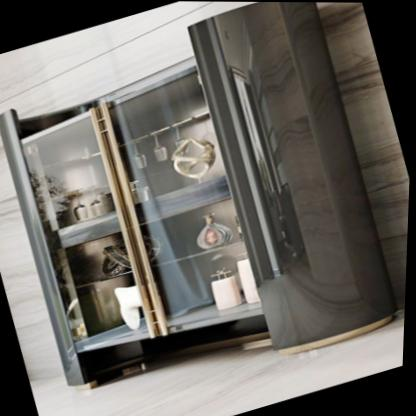Cupboard: (0, 2, 403, 386)
